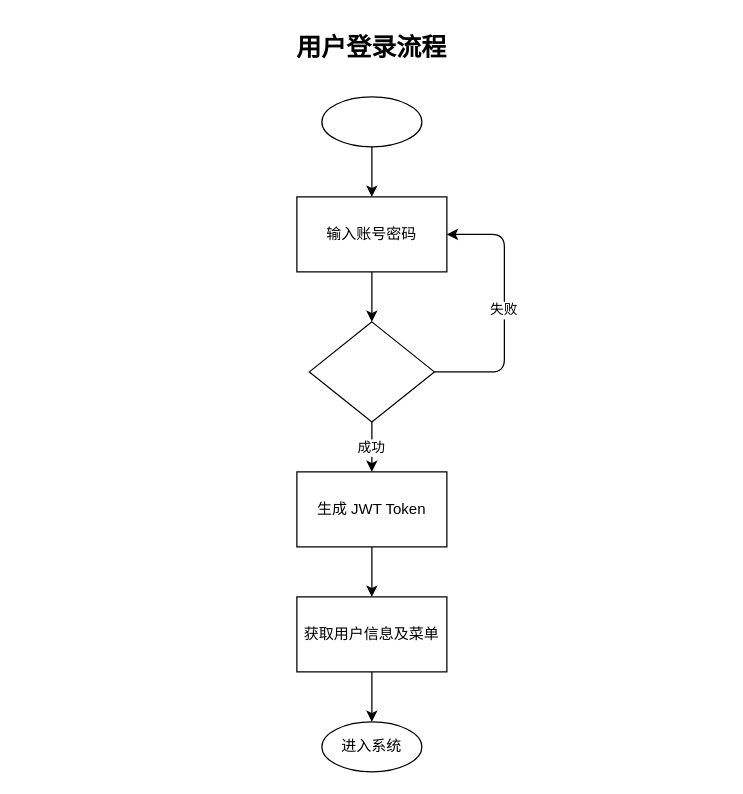
This 743x794 diagram has some shape labels left out. Each missing label, with the centre of its shape:
"后端验证凭据" belongs at (x=371, y=371).
"开始" belongs at (x=371, y=121).
